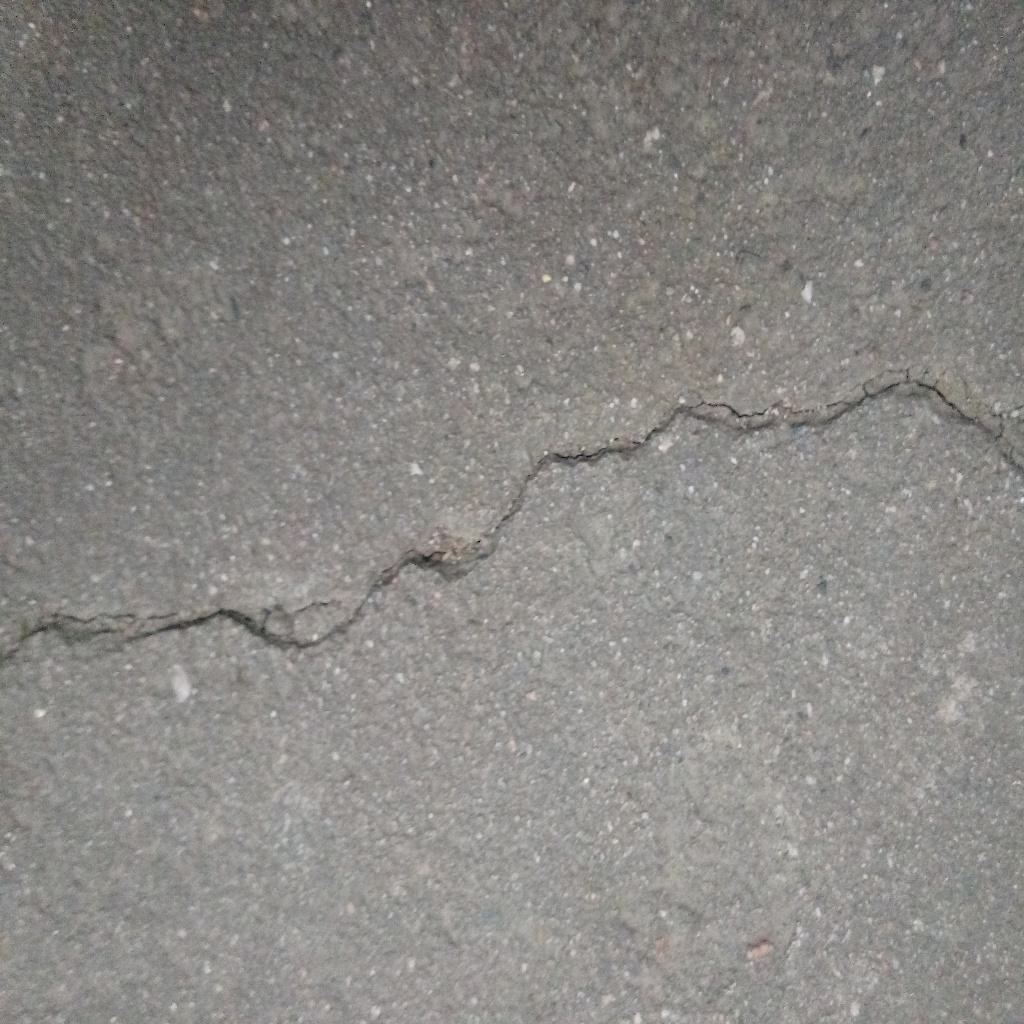Crack: (1, 373, 1024, 664)
